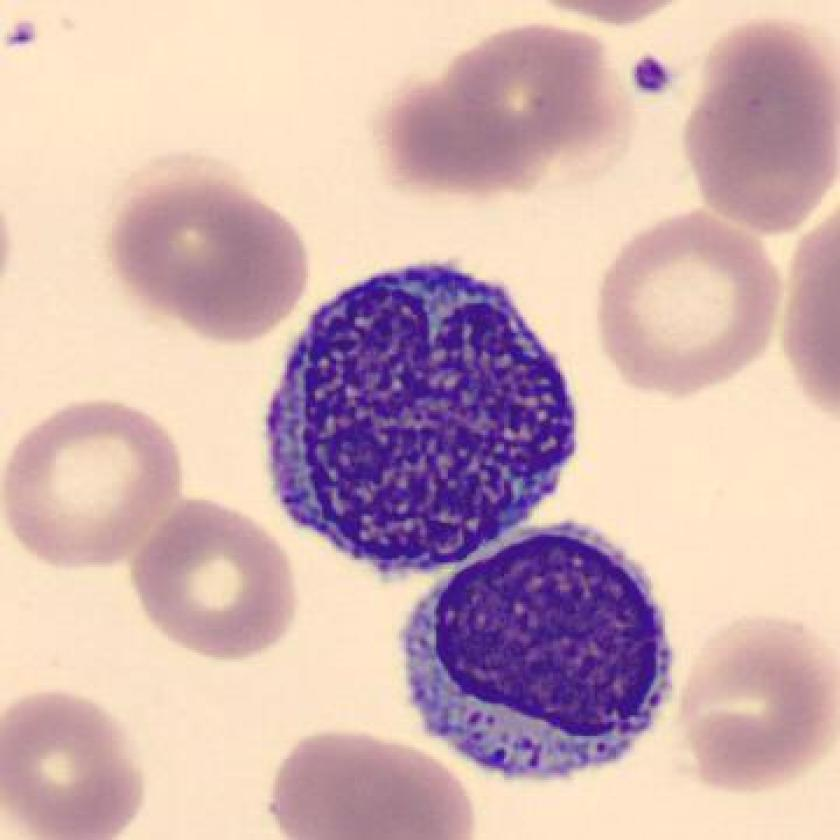monocyte: (246, 251, 594, 589)
